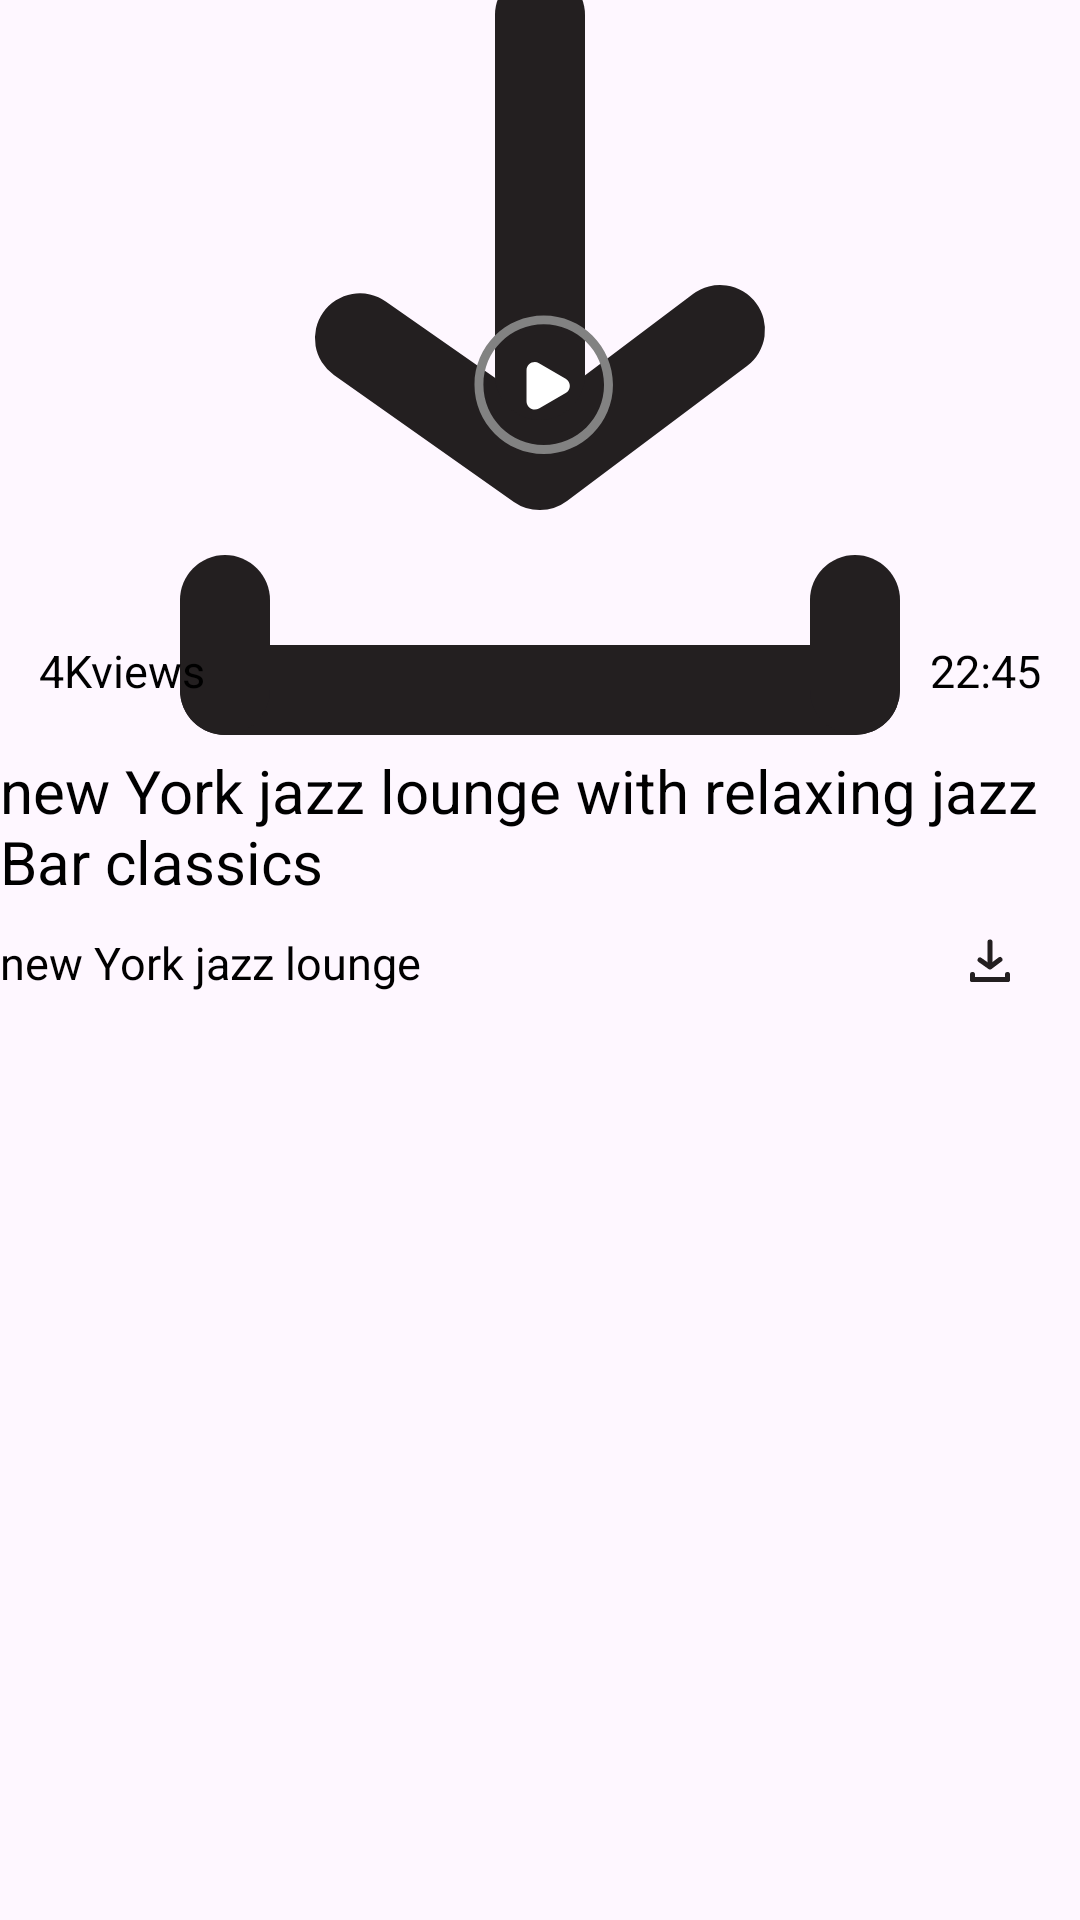

Screen size 1080px×1920px. Icon name, then its center in pixels as (x,y):
play video: (540,391)
